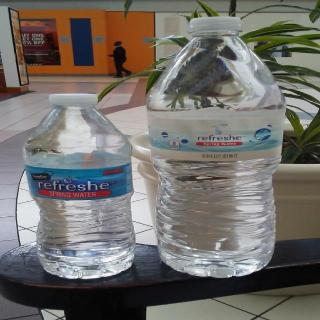Plastic-bottle: (140, 18, 291, 282), (17, 89, 145, 285)
